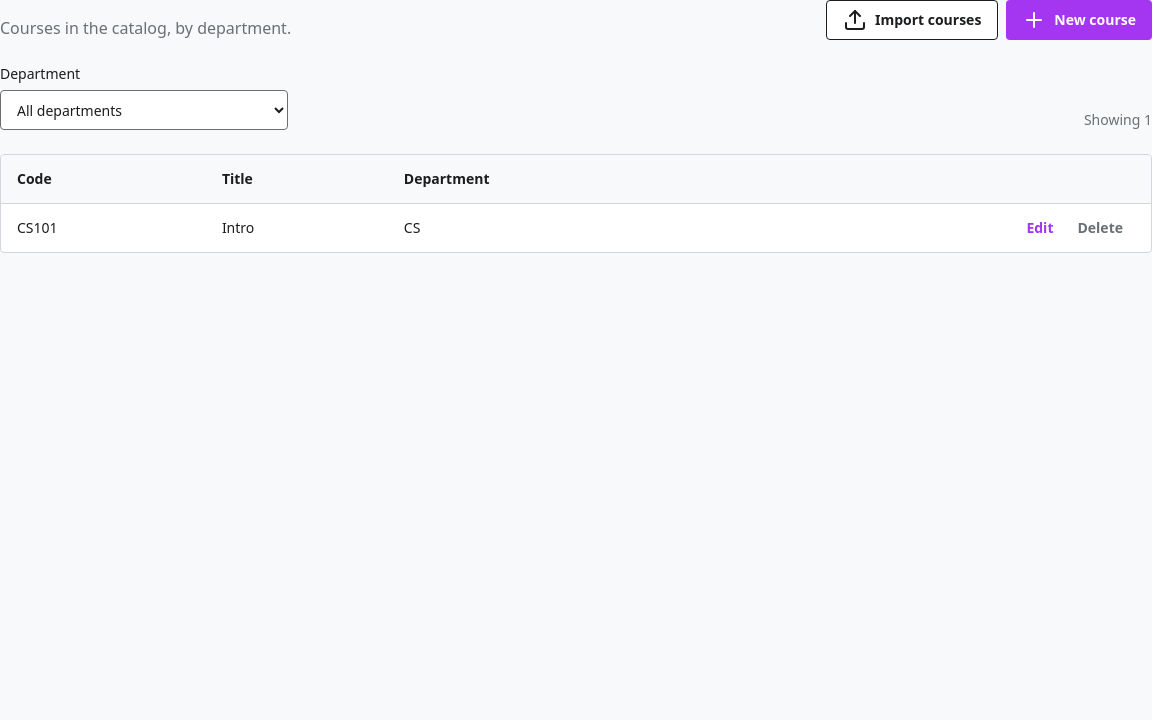
Test: edits only changed fields
This screenshot has width=1152, height=720.
Click the button with aria-label "Edit CS101": (1040, 228) left=1014, top=212, right=1066, bottom=244
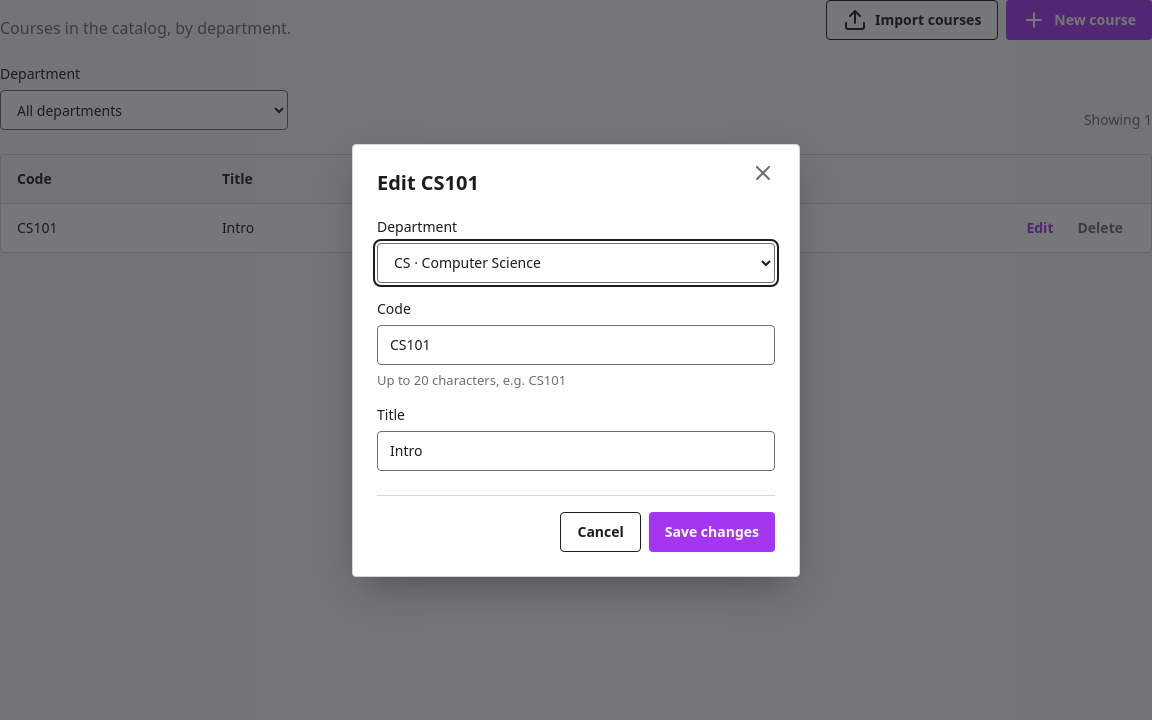
Replace the text in the field labelled "Title" with "Intro 2": (576, 450) left=377, top=430, right=775, bottom=470
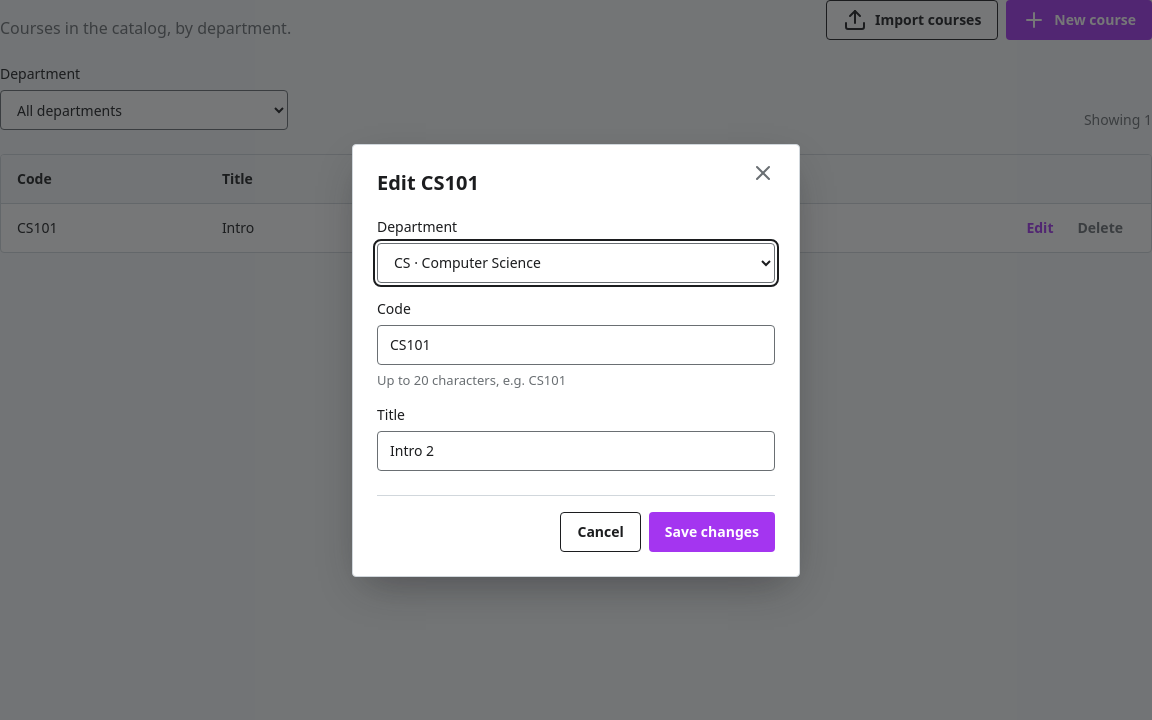
Click the button "Save changes": (712, 532) left=649, top=512, right=775, bottom=552
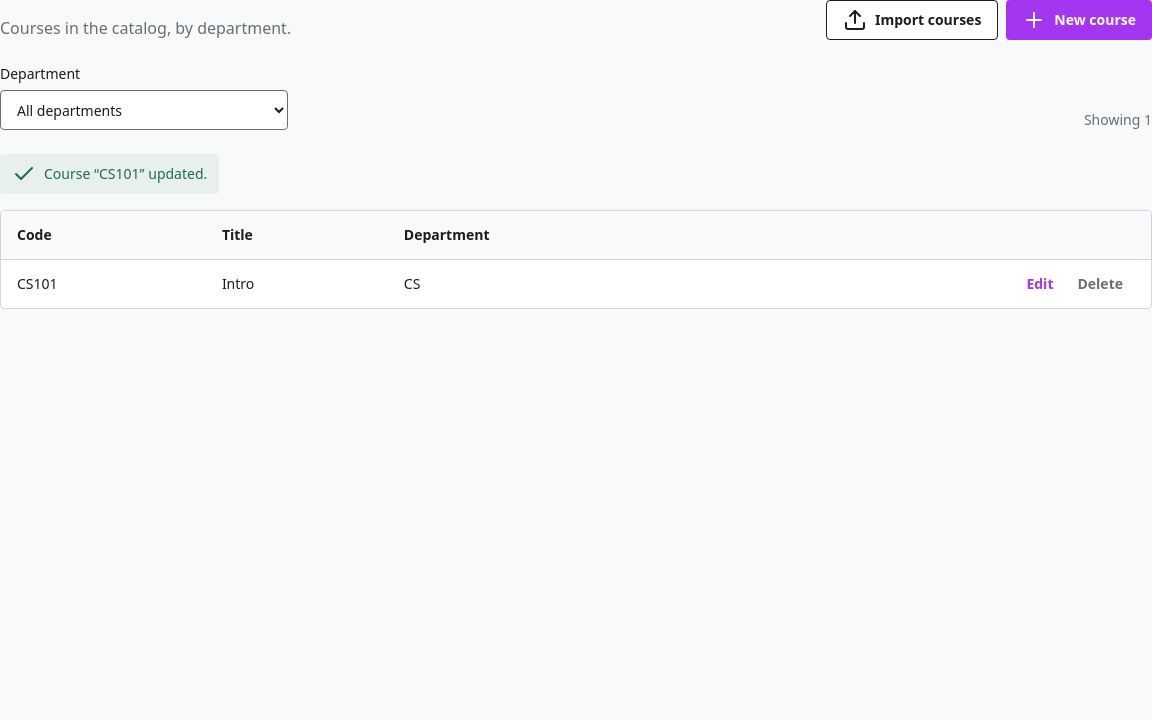
Expected: the text "Course “CS101” updated." is shown, left=0, top=154, right=219, bottom=194
